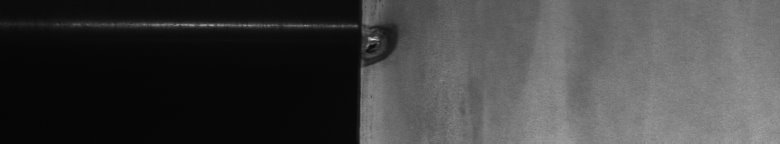hb: (372, 4, 488, 136)
